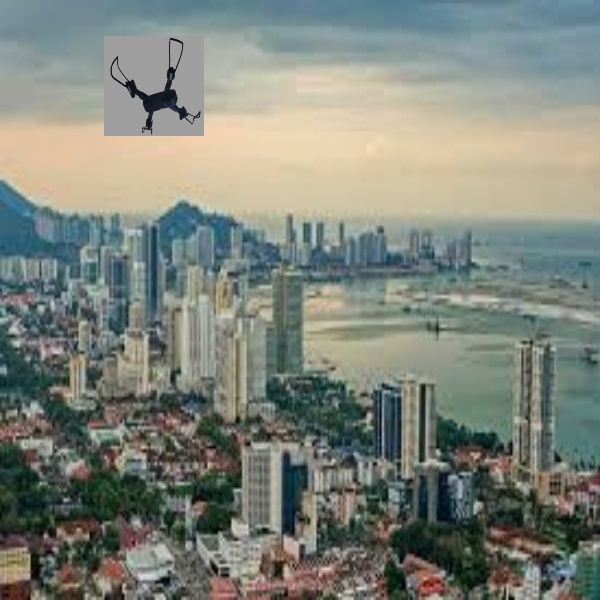drone: (105, 33, 207, 137)
